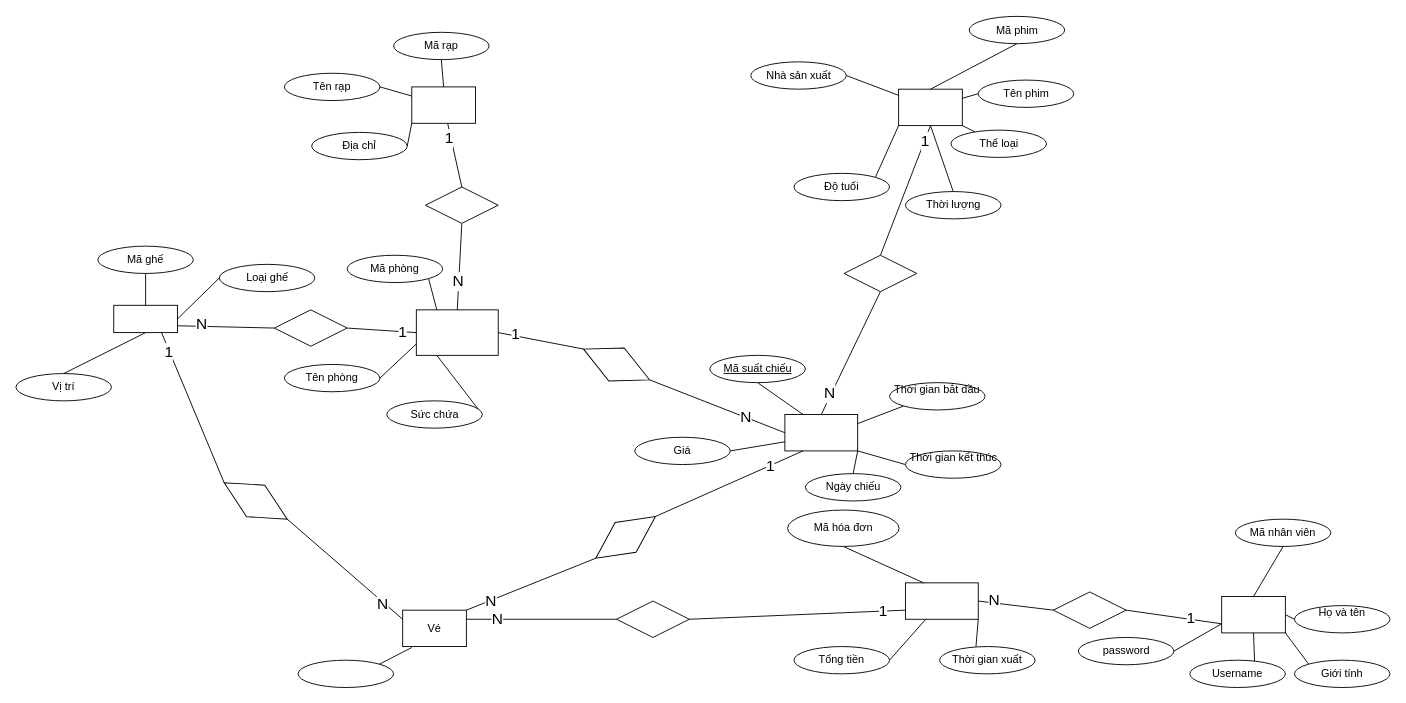
Image size: 1406x703. Some labels were removed from this diagram. The shapes that lost their labels are listed below. From the top down, each one's box as (x1, y1, x2, y2) in pixels, then its label:
(411, 86, 475, 123): Rạp
(898, 88, 962, 126): Phim
(113, 304, 177, 333): Ghế
(415, 309, 498, 355): Phòng chiếu
(784, 414, 858, 451): Suất chiếu
(905, 582, 978, 619): Hóa đơn
(1221, 596, 1285, 633): Nhân viên
(297, 659, 394, 688): Mã vé
